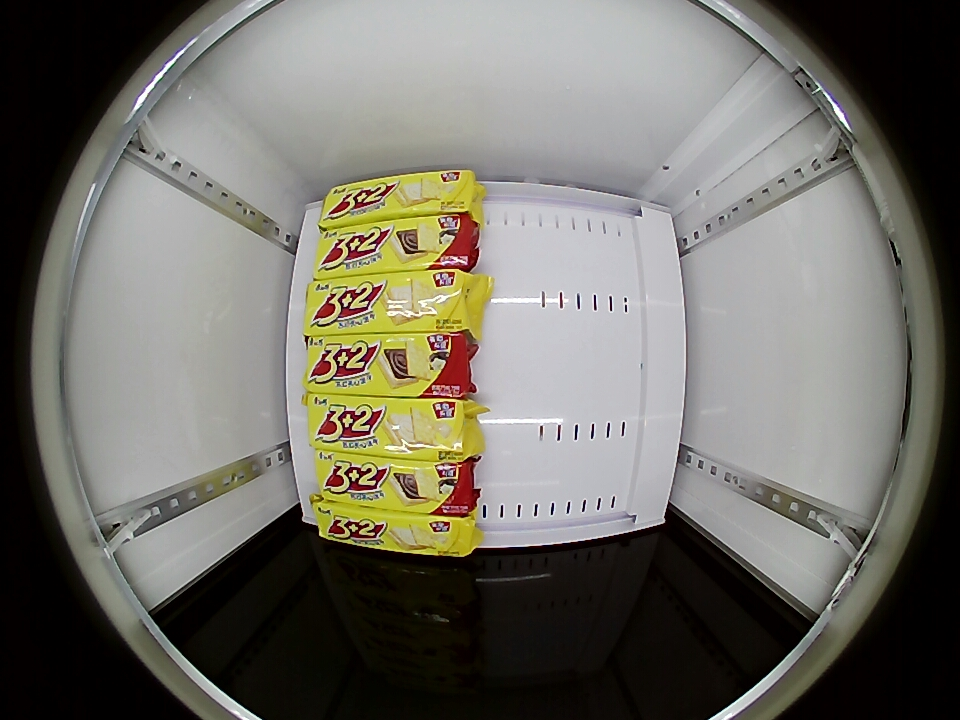3+2-2: (303, 272, 473, 334), (307, 396, 474, 457), (318, 170, 480, 226), (313, 502, 479, 556)
3jia2: (302, 335, 472, 395), (313, 455, 473, 514), (314, 217, 479, 274)
